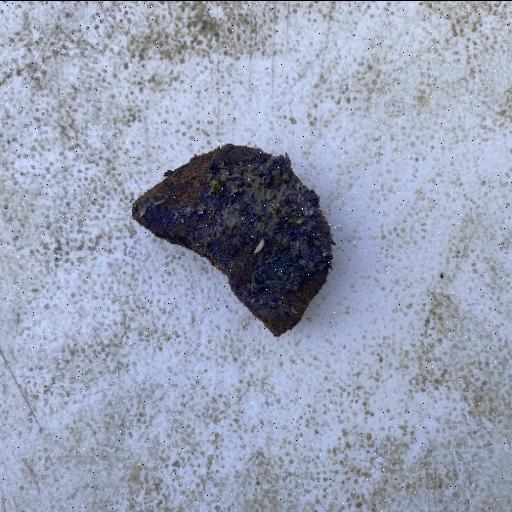Waste: (129, 142, 335, 338)
